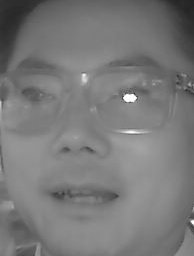glass: (90, 64, 177, 134), (2, 65, 69, 136)
mouth: (47, 177, 119, 217)
